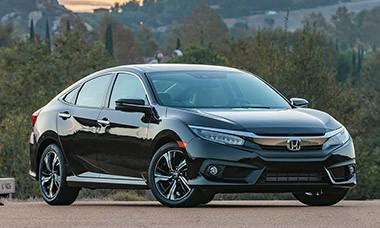car: (18, 40, 363, 214)
